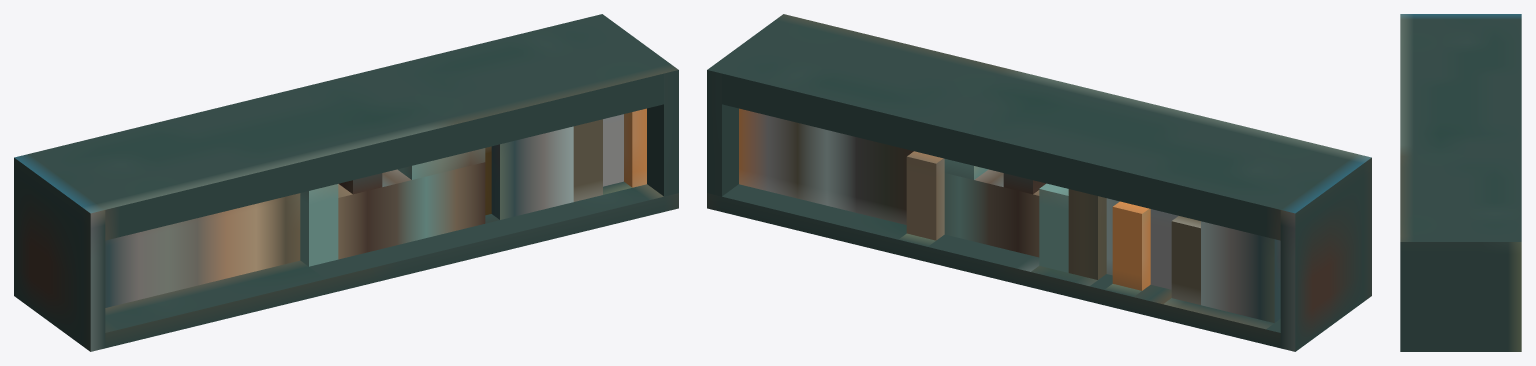
The model's file is BookshelfWideBlueGreen_00.fbx.
The picture shows the model from 3 angles, left to right: view 1: azimuth 30°, elevation 25°; view 2: azimuth 150°, elevation 25°; view 3: azimuth 270°, elevation 25°; orthographic projection. The views are drawn at different scales.
Parts seen in each view (by area): view 1: BookshelfWideBlueGreen_00; view 2: BookshelfWideBlueGreen_00; view 3: BookshelfWideBlueGreen_00.
Part boxes in pixels (x1=…): BookshelfWideBlueGreen_00: x1=14, y1=14, x2=678, y2=351; BookshelfWideBlueGreen_00: x1=707, y1=14, x2=1371, y2=351; BookshelfWideBlueGreen_00: x1=1400, y1=14, x2=1521, y2=351.
Bounding box in the file's own units: 200 × 45 × 45.
1 material, 1 textured.
